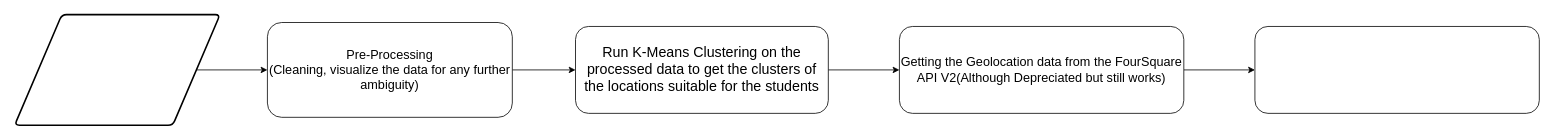
This 1553x139 diagram has some shape labels left out. The shapes that lost their labels are listed below. From the top down, each one's box as (x1, y1, x2, y2) in pixels, then its label:
(13, 13, 220, 126): Data Collection
(1254, 26, 1539, 113): Plotting the results on the map using the Folio Library
